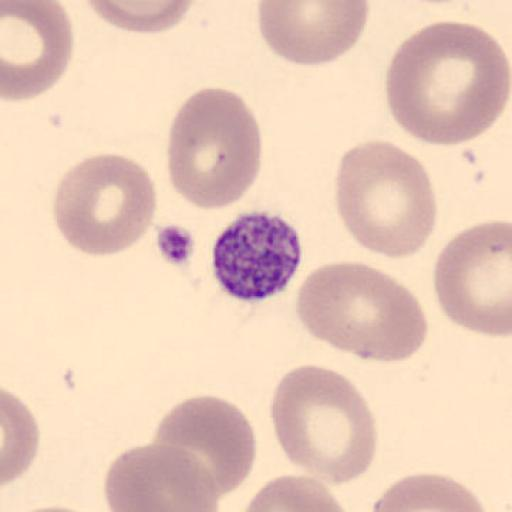Platelet: (208, 207, 306, 305)
RBC: (383, 18, 510, 148), (293, 259, 429, 362), (269, 361, 378, 485), (333, 137, 438, 259), (165, 84, 263, 212), (149, 393, 259, 500), (51, 151, 157, 258), (434, 217, 512, 339), (102, 441, 222, 512), (2, 0, 76, 103), (256, 1, 370, 67), (369, 469, 490, 512), (240, 472, 351, 512), (80, 0, 198, 37), (2, 386, 41, 490), (4, 499, 106, 512), (6, 502, 100, 512), (397, 0, 479, 6)
